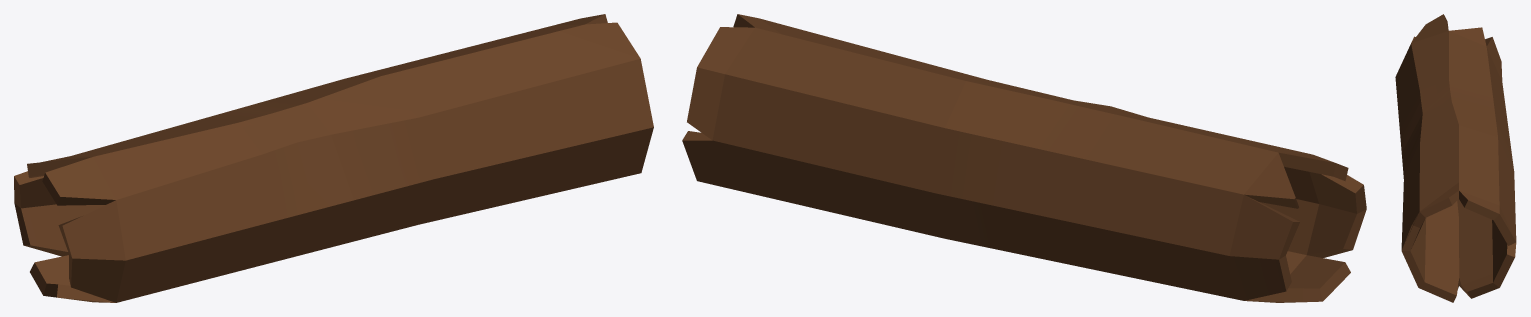
Rendered from Log2.glb.
3 views of the same model, side by side, from view 1: azimuth 30°, elevation 25°; view 2: azimuth 150°, elevation 25°; view 3: azimuth 270°, elevation 25° (orthographic). The views are drawn at different scales.
Parts seen in each view (by area): view 1: Log 2; view 2: Log 2; view 3: Log 2.
Boxes of the visible parts, bbox=[...] form: Log 2: bbox=[14, 14, 653, 302]; Log 2: bbox=[682, 14, 1366, 302]; Log 2: bbox=[1395, 14, 1516, 302].
Size of the model in its own units: 28.59 by 7.31 by 7.66.
